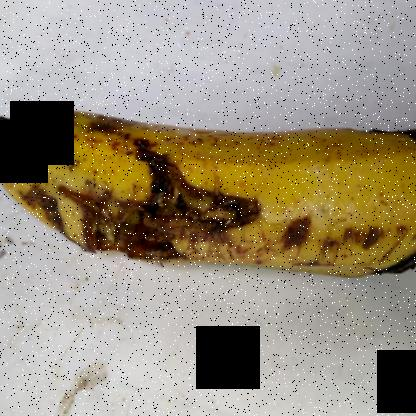rotten: (0, 79, 258, 285), (360, 98, 415, 287)
